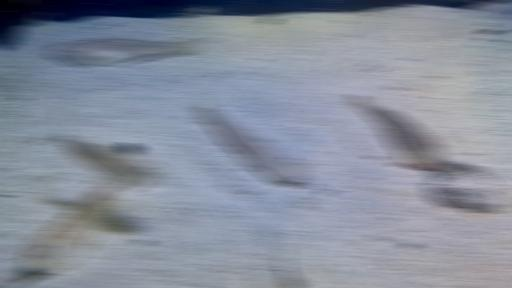Fish: (198, 99, 309, 182), (54, 109, 161, 192), (22, 184, 121, 273), (350, 94, 443, 170), (50, 38, 197, 67), (279, 260, 300, 287)
